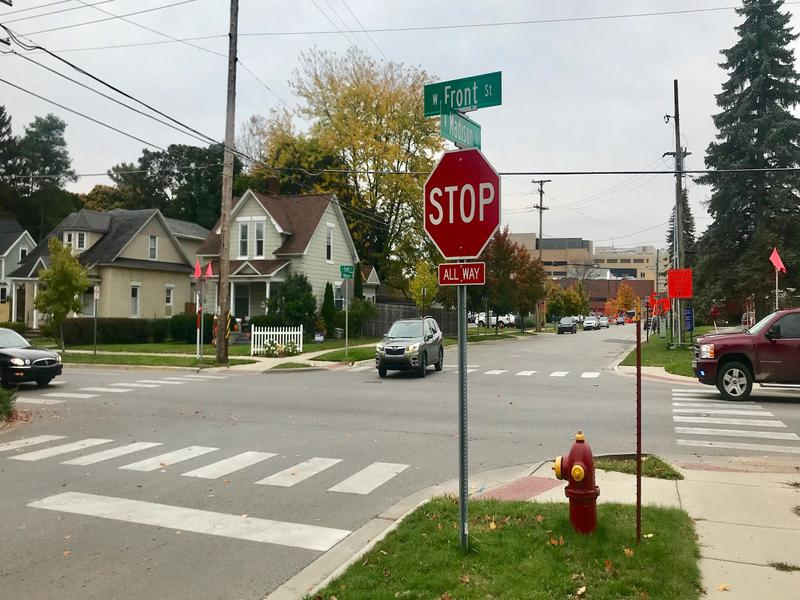stop: (420, 148, 504, 255)
